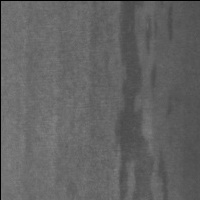inclusion: (115, 3, 155, 200), (154, 149, 175, 200)
